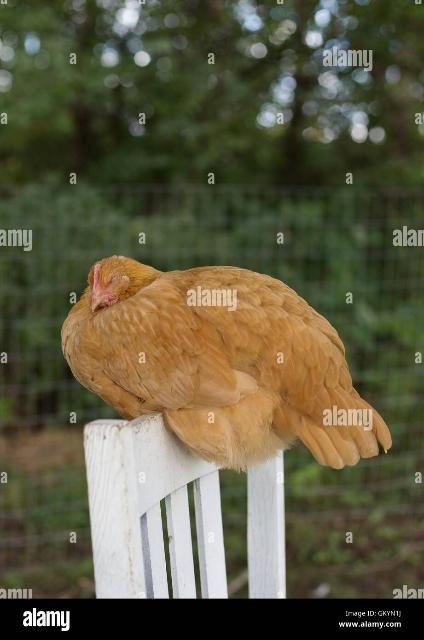Chicken: (58, 254, 392, 471)
